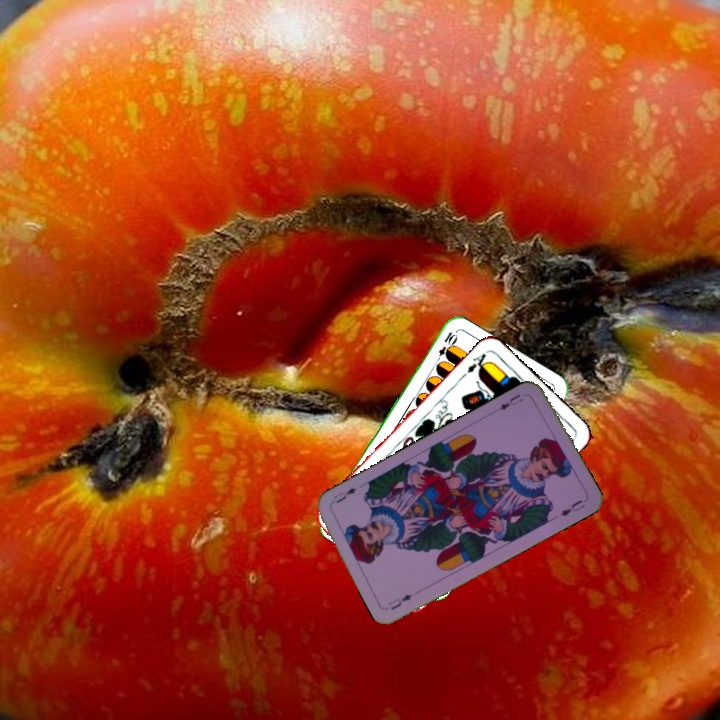E10: (431, 328, 459, 366)
EA: (463, 349, 492, 376)
EU: (495, 390, 526, 413), (384, 590, 415, 613)
